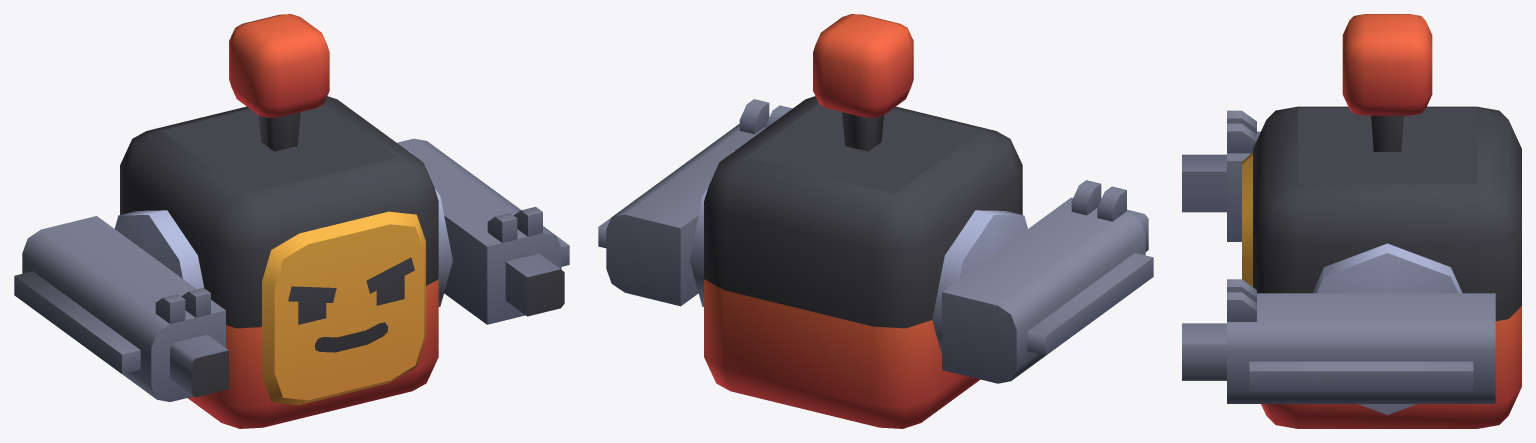
The model's file is enemy-flying.glb.
The picture shows the model from 3 angles, left to right: view 1: azimuth 30°, elevation 25°; view 2: azimuth 150°, elevation 25°; view 3: azimuth 270°, elevation 25°; orthographic projection. The views are drawn at different scales.
Visible parts, largest first — view 1: torso, blaster-right, blaster-left, antenna; view 2: torso, blaster-right, blaster-left, antenna; view 3: torso, blaster-left, antenna, blaster-right.
Part boxes in pixels (box(x1,y1,x2,y2)): torso: box(120, 96, 438, 428); blaster-right: box(14, 210, 228, 401); blaster-left: box(397, 138, 569, 324); antenna: box(229, 14, 329, 151); torso: box(704, 96, 1022, 428); blaster-right: box(932, 180, 1153, 383); blaster-left: box(598, 99, 792, 306); antenna: box(813, 14, 913, 151); torso: box(1242, 106, 1521, 428); blaster-left: box(1182, 243, 1495, 415); antenna: box(1342, 14, 1432, 151); blaster-right: box(1182, 110, 1260, 241).
Size of the model in its own units: 1.2 by 0.9 by 0.7586.
Materials: 1 (1 with a texture image).
